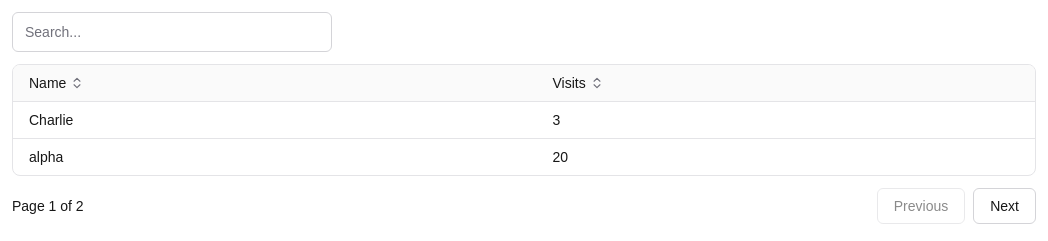
Test: DataTable › pages through rows
expect the text "Page 1 of 2" is shown: met, box [12,196,84,216]
expect the button "Previous" is disabled: met, box [877,188,965,224]
Step 1. Click the button "Next" → (1005, 206), box [973,188,1036,224]
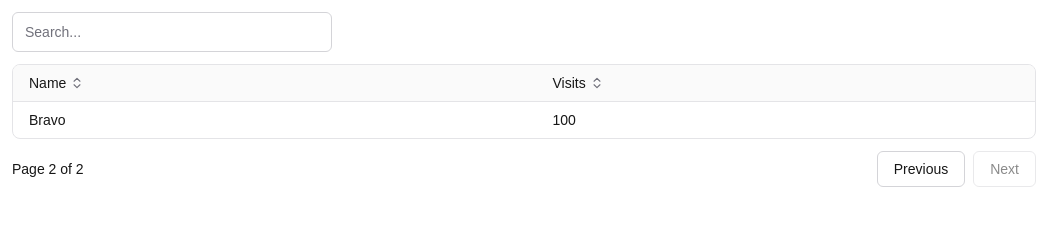
expect the text "Page 2 of 2" is shown: met, box [12,159,84,179]
expect the button "Next" is disabled: met, box [973,151,1036,187]
